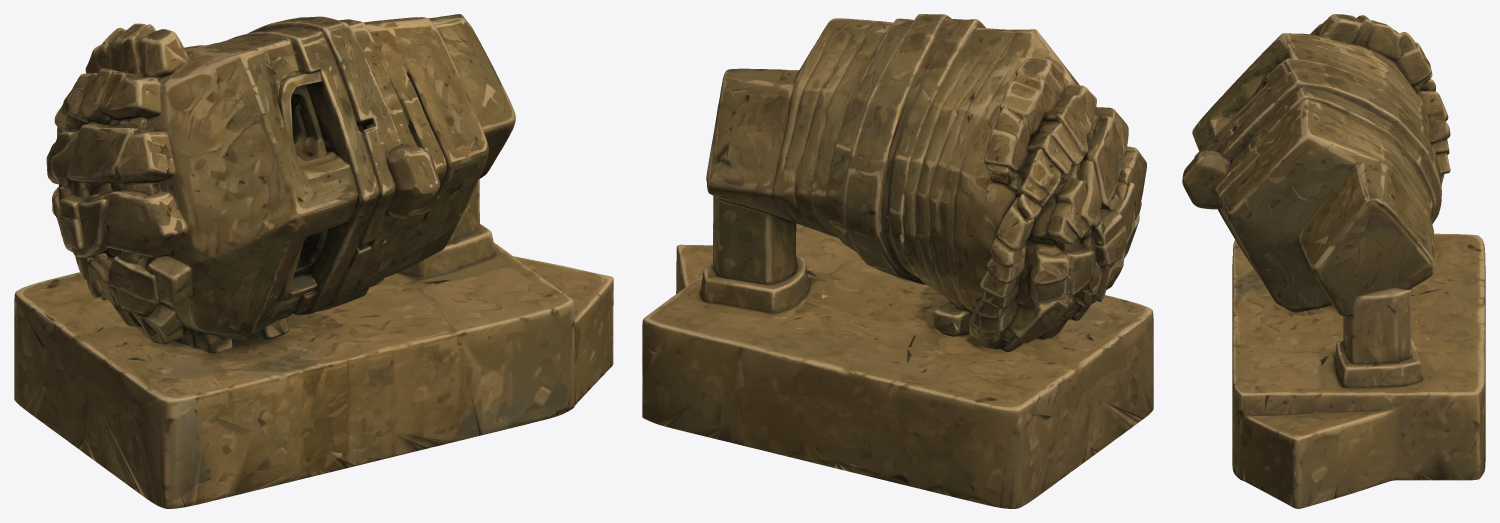
Rendered from statue.glb.
3 views of the same model, side by side, from view 1: azimuth 30°, elevation 25°; view 2: azimuth 150°, elevation 25°; view 3: azimuth 270°, elevation 25° (orthographic). The views are drawn at different scales.
Parts seen in each view (by area): view 1: Mesh_0; view 2: Mesh_0; view 3: Mesh_0.
Boxes of the visible parts, x1,y1,x2,y2 form: Mesh_0: (14, 14, 613, 508); Mesh_0: (642, 14, 1153, 508); Mesh_0: (1182, 14, 1485, 508).
Bounding box in the file's own units: 19.7 × 15.07 × 12.59.
Materials: 1 (1 with a texture image).
